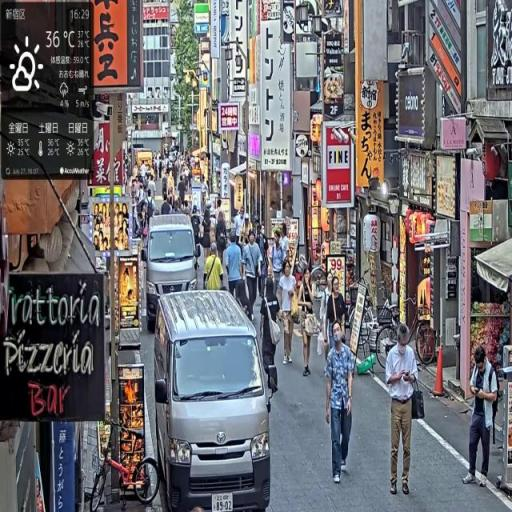person: (385, 320, 421, 498), (325, 321, 358, 488), (464, 345, 501, 488), (279, 259, 299, 364), (243, 229, 263, 322), (325, 279, 348, 358), (225, 233, 245, 305), (203, 243, 225, 293)
